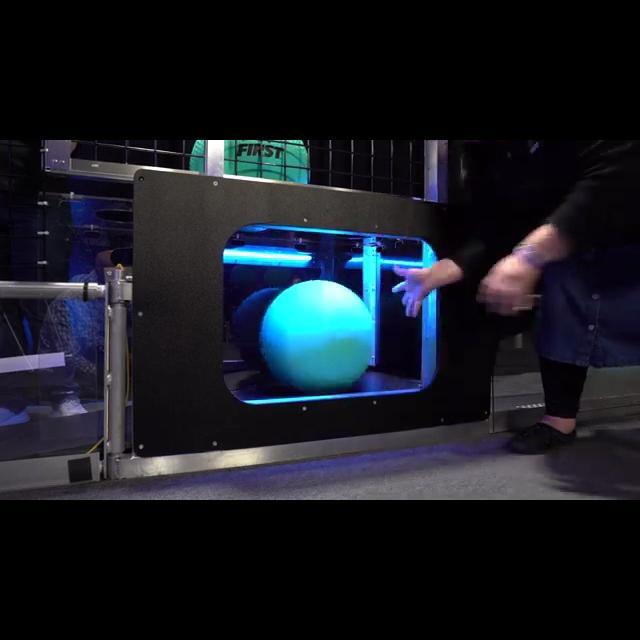ALGAE: (257, 278, 375, 394), (190, 140, 312, 186)
